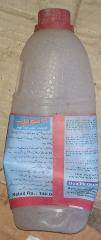plastic: (3, 8, 99, 234)
